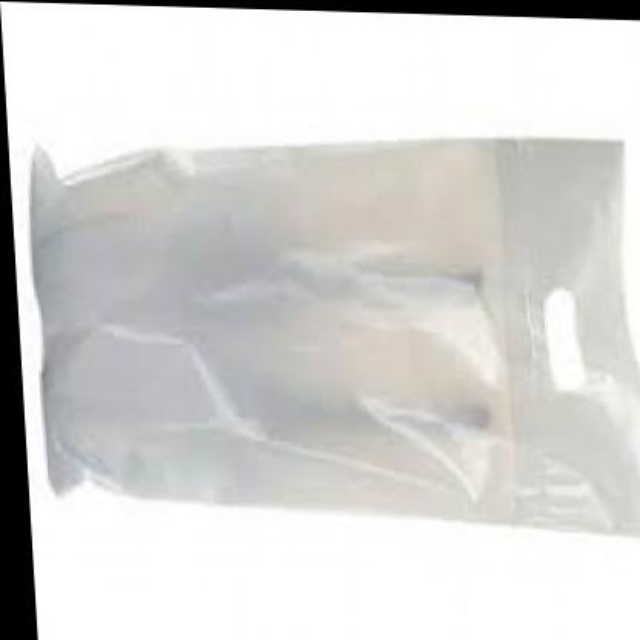trash: (31, 140, 638, 531)
